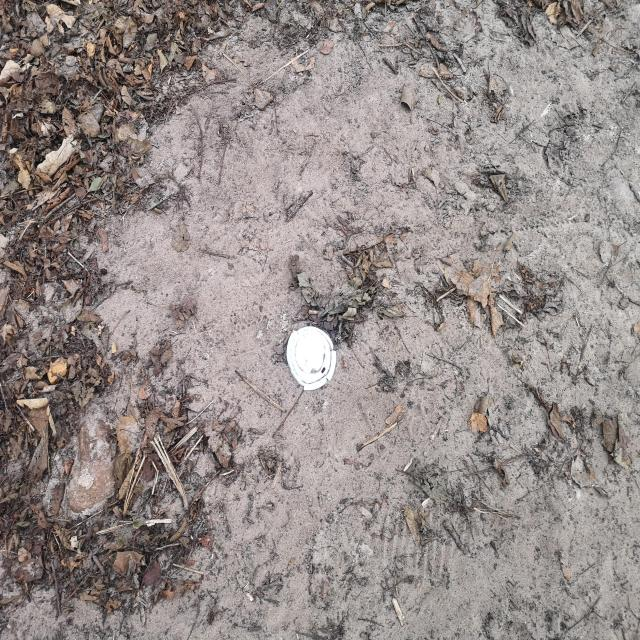litter: (284, 323, 335, 391)
